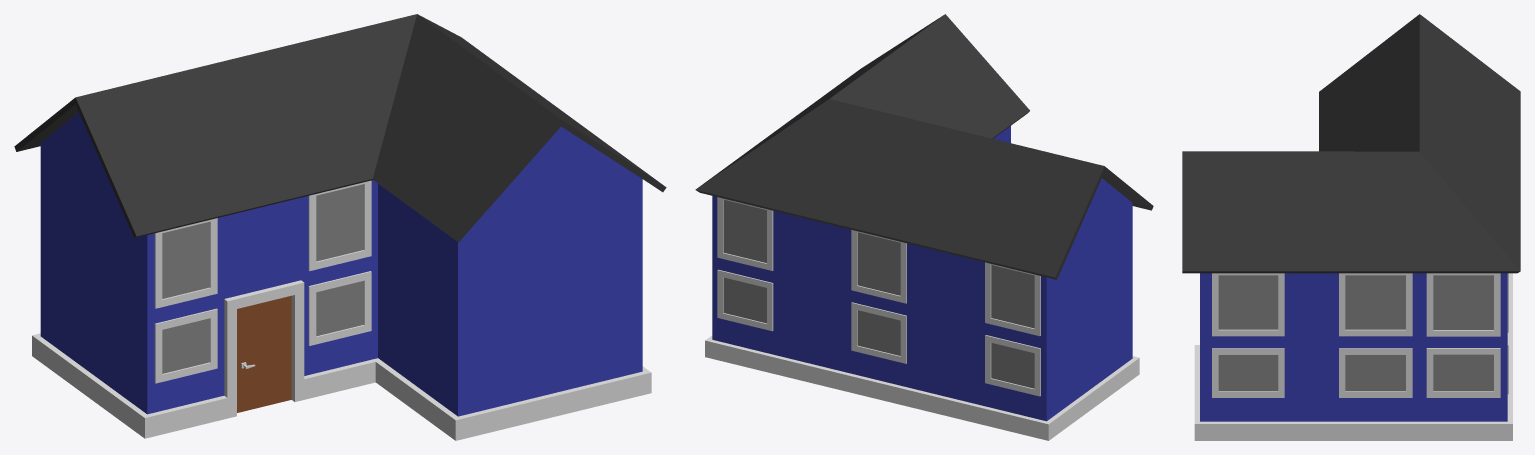
Rendered from house2_3.fbx.
3 renders of one model, left to right at view 1: azimuth 30°, elevation 25°; view 2: azimuth 150°, elevation 25°; view 3: azimuth 270°, elevation 25°, orthographic. The views are drawn at different scales.
Visible parts, largest first — view 1: house2_3; view 2: house2_3; view 3: house2_3.
Part boxes in pixels (bbox=[...]): house2_3: bbox=[14, 14, 666, 440]; house2_3: bbox=[695, 14, 1153, 440]; house2_3: bbox=[1182, 14, 1520, 440].
Size of the model in its own units: 969 by 628 by 770.
